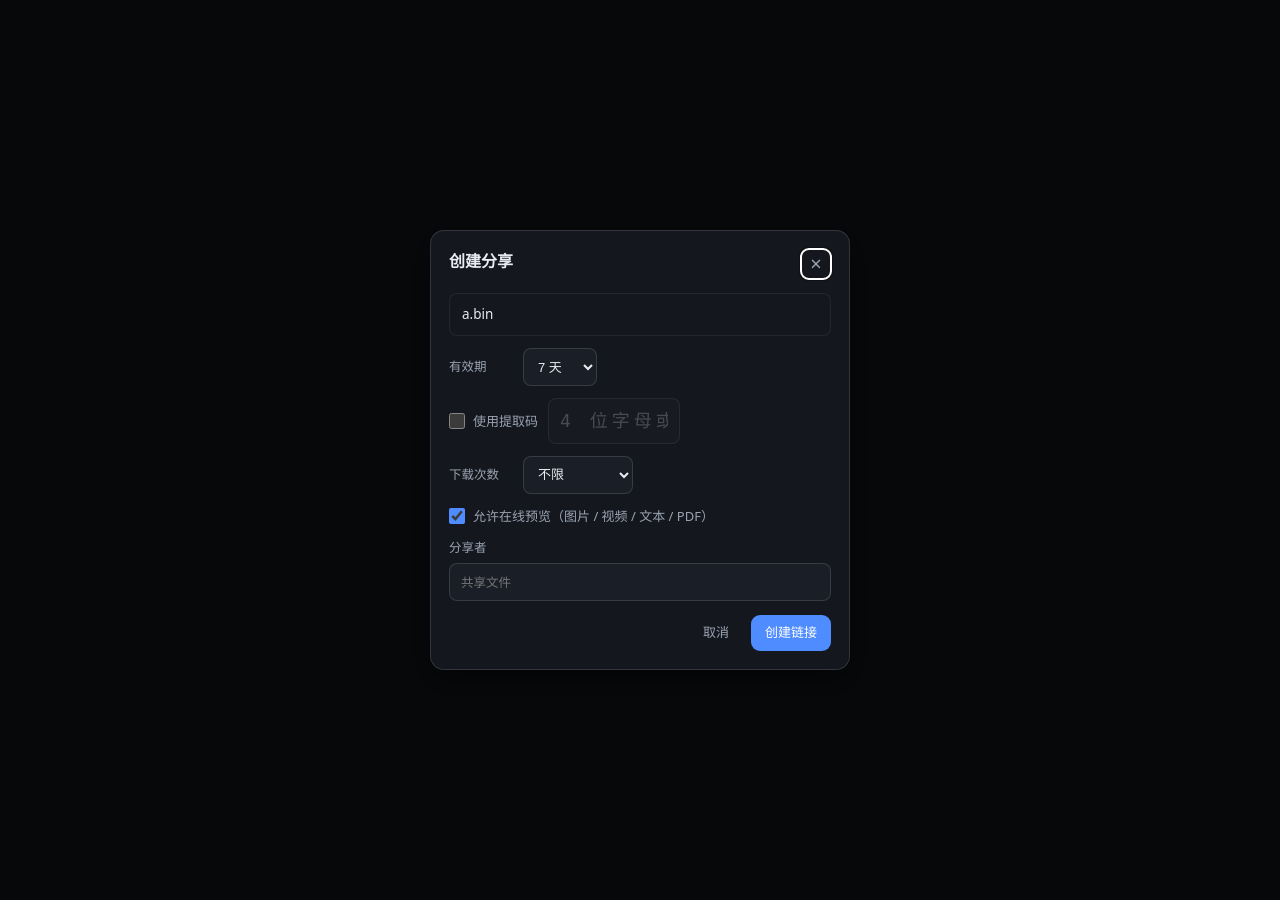
Test case: ShareCreateDialog › 开启提取码后自动生成 4 位，创建成功后展示链接与提取码
The image size is (1280, 900).
Expected: the field with test id "share-code" is disabled, [548,398,680,444]
Click the checkbox with test id "share-code-enable": (457, 421) [449,413,465,429]
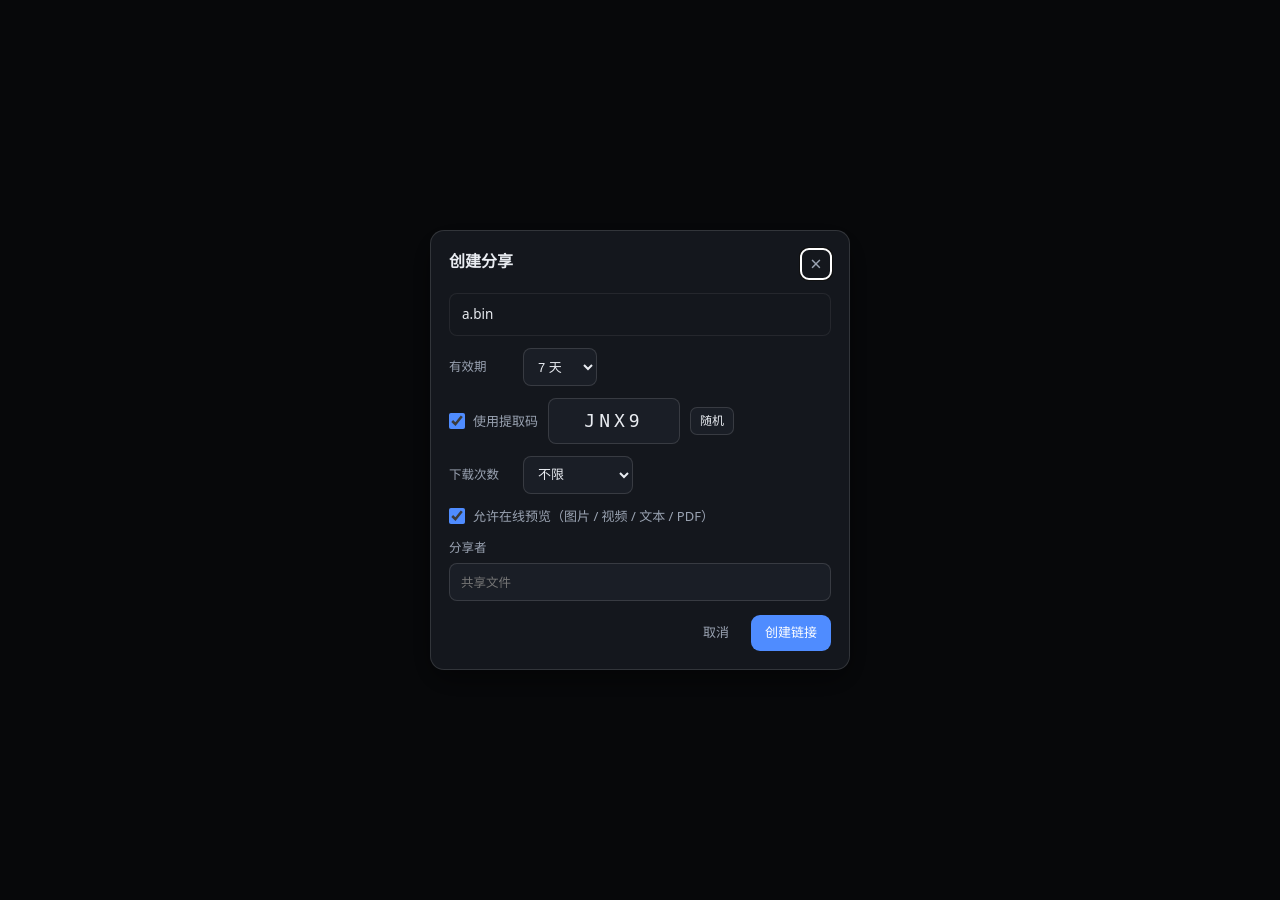
Now the field with test id "share-code" is enabled, box [548,398,680,444]
In the field with test id "share-note": (640, 582) [449,563,831,601], type "给同事"
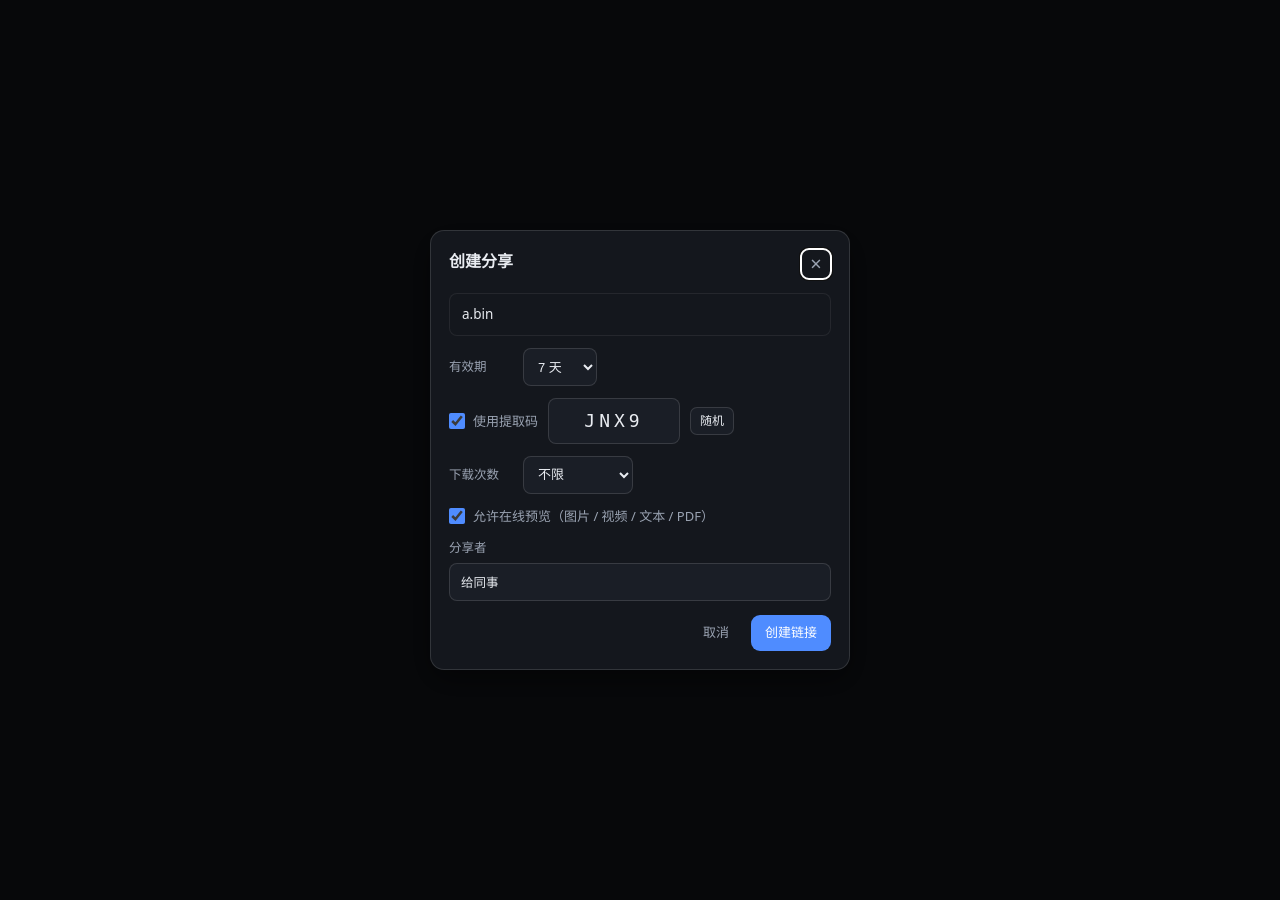
Submit the form with id "share-create-form", box [449,293,831,601]
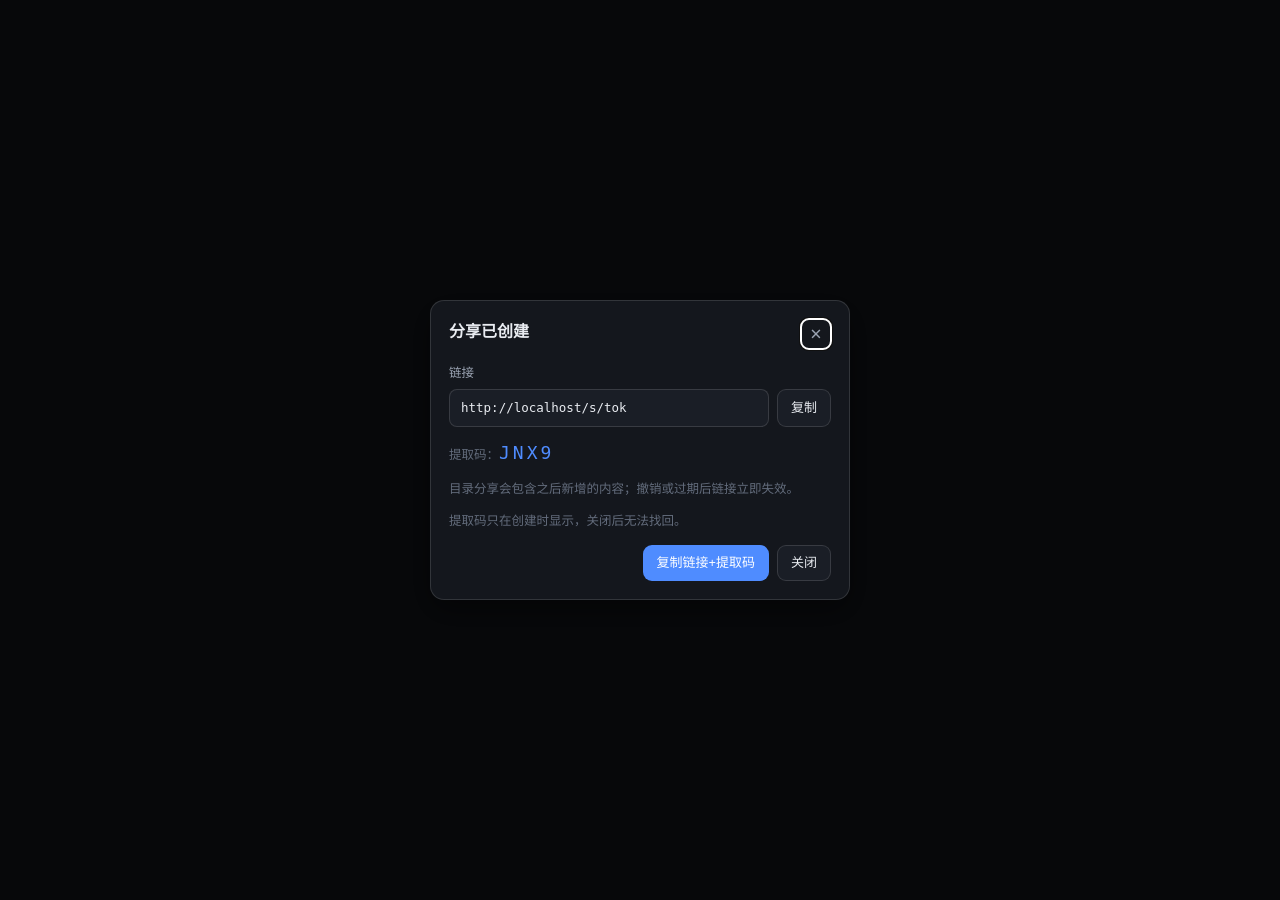
Now the field with test id "share-result-link" is shown, box [449,388,769,426]
